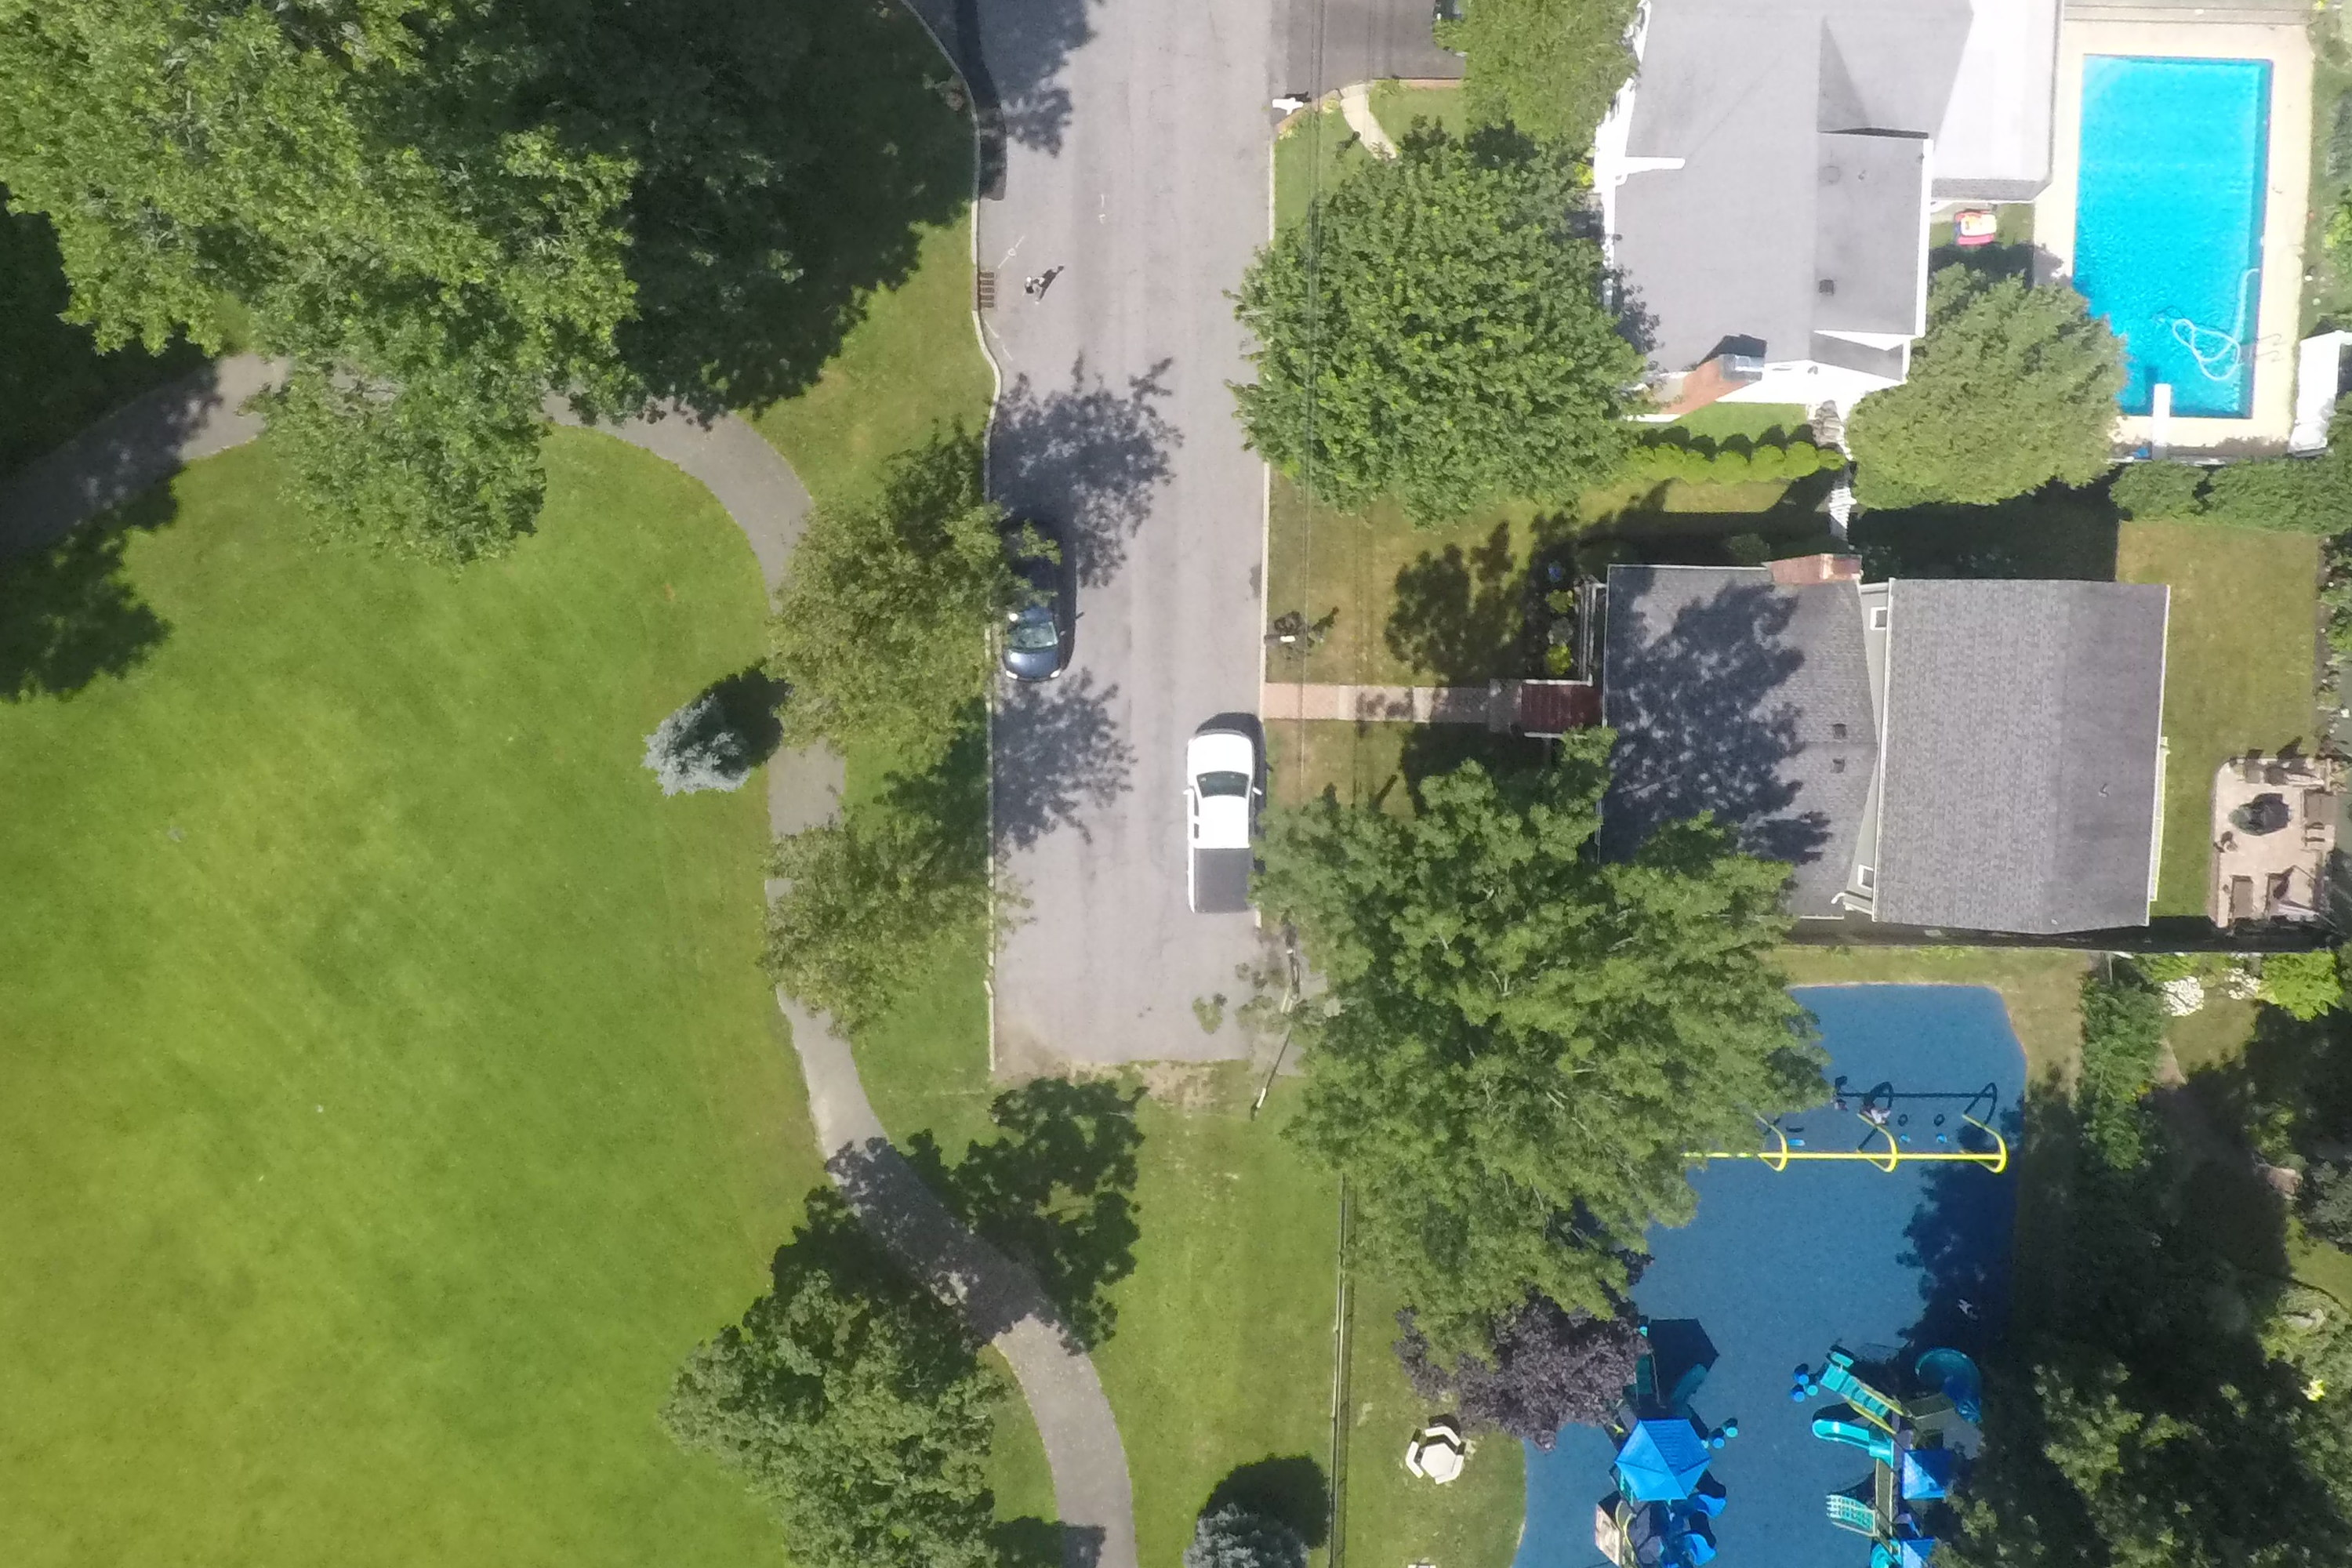back yard: (2093, 490, 2352, 947)
car: (987, 460, 1090, 697), (1183, 724, 1270, 921)
driveway: (1267, 0, 1467, 128)
front yard: (1243, 450, 1605, 924)
house: (1582, 534, 2172, 971), (1551, 0, 2084, 439)
pool: (2058, 39, 2282, 451)
street: (985, 0, 1290, 1090)
yard: (2118, 471, 2347, 941)
